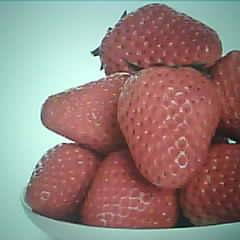straw-ripe: (119, 67, 221, 187), (100, 1, 222, 71)
